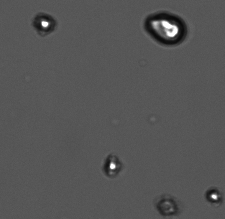Dead Cell: (156, 196, 178, 217)
Living Cell: (143, 10, 187, 47), (33, 13, 54, 34), (103, 155, 122, 177), (205, 188, 222, 204)
